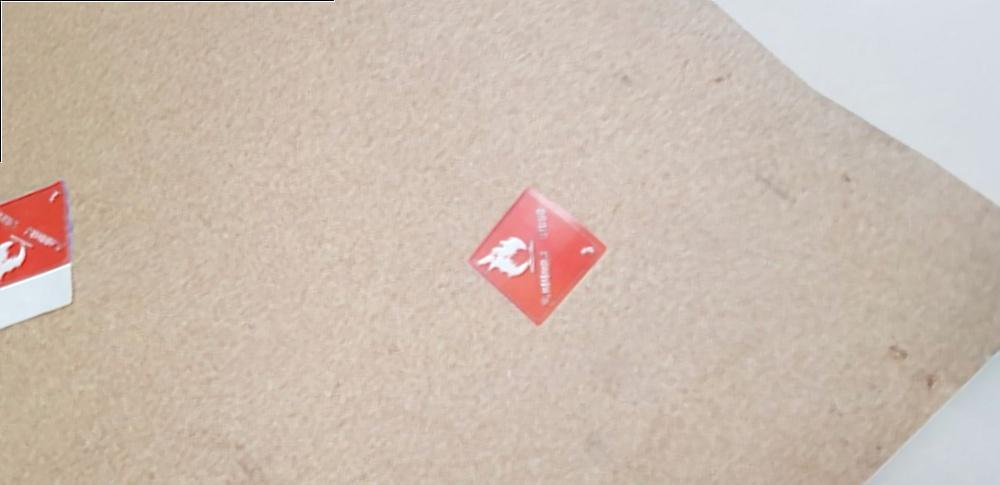flammable: (468, 180, 620, 330), (1, 175, 73, 286)
